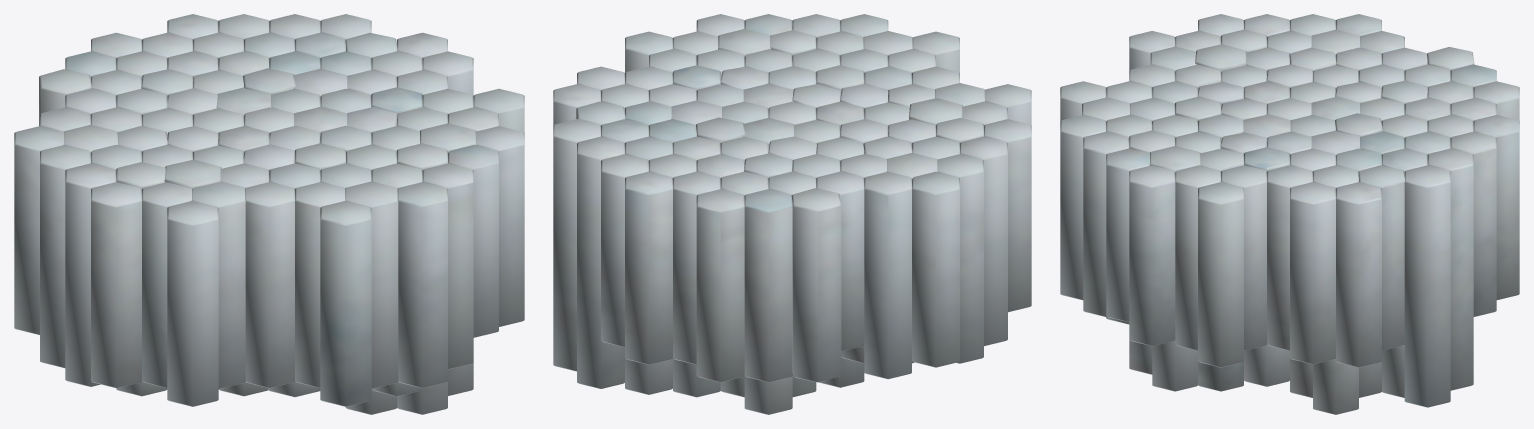
Rendered from P_RockHexic_Platform03.obj.
3 views of the same model, side by side, from view 1: azimuth 30°, elevation 25°; view 2: azimuth 150°, elevation 25°; view 3: azimuth 270°, elevation 25° (orthographic). The views are drawn at different scales.
Size of the model in its own units: 31.73 by 18.01 by 32.33.
